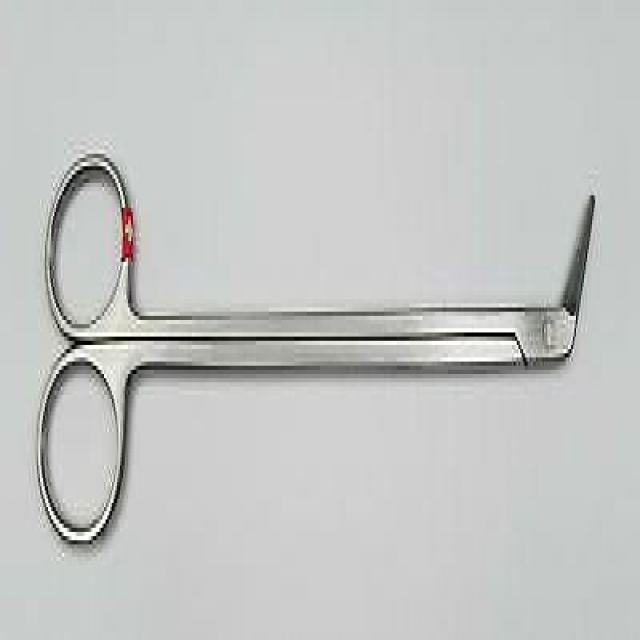Potts: (37, 142, 597, 570)
